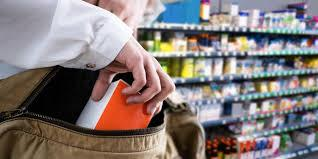shoplifting: (17, 4, 187, 159)
